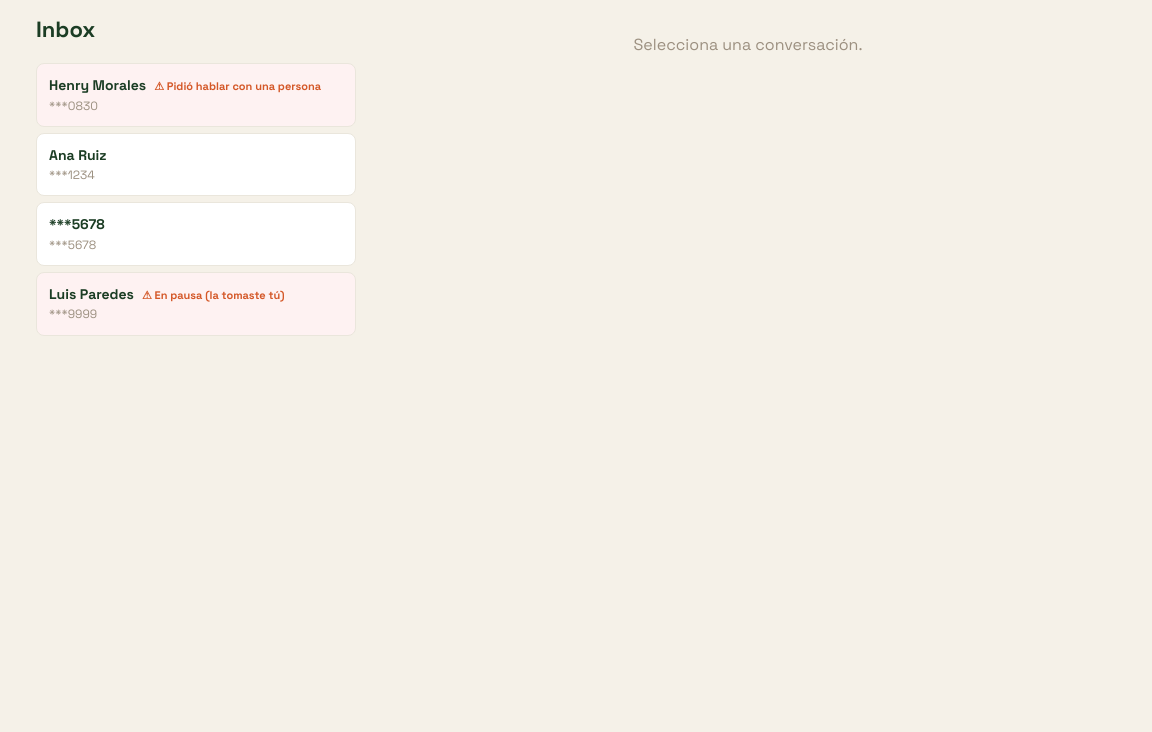
Test: Inbox (T-H4.1) › thread items with media_url render the actual media instead of the text placeholder
The image size is (1152, 732).
Expected: the number of buttons with test id "conv-row" is 4, top-left (36, 63), bottom-right (356, 127); top-left (36, 133), bottom-right (356, 196); top-left (36, 202), bottom-right (356, 266); top-left (36, 272), bottom-right (356, 336)
Click the text "Henry Morales": [196, 85] box top-left (49, 74), bottom-right (343, 97)
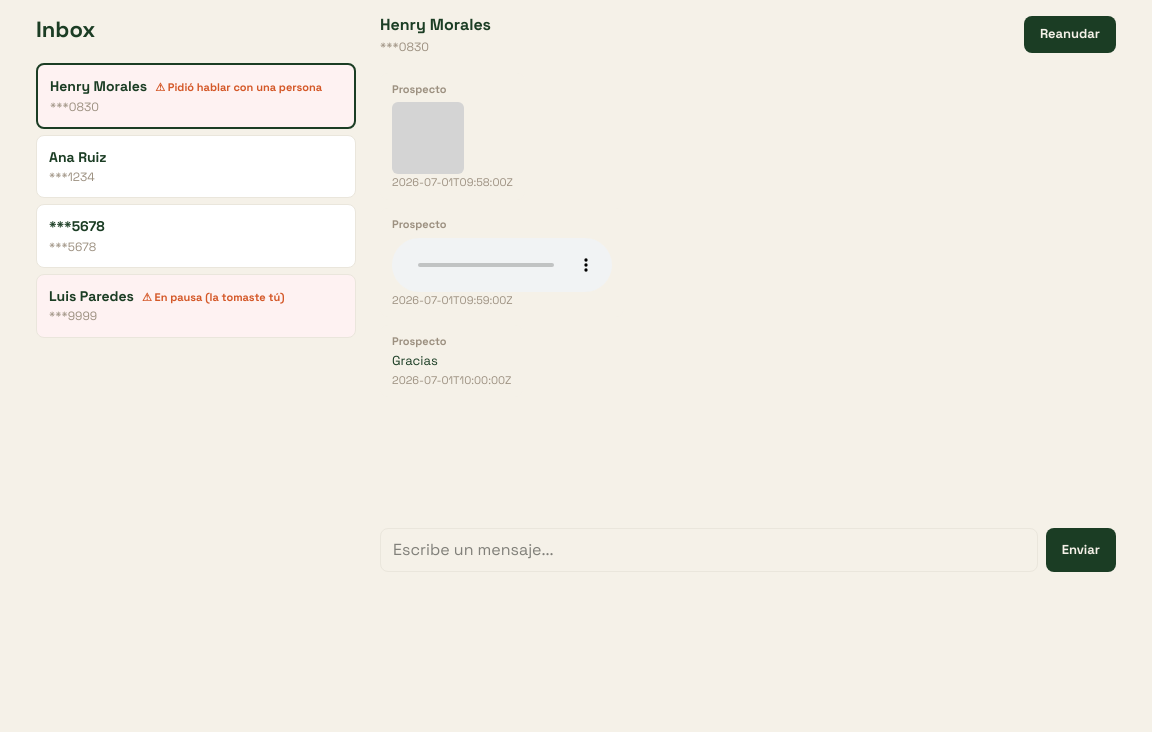
Expected: the number of elements with test id "thread-item" is 3, top-left (380, 73), bottom-right (525, 200); top-left (380, 208), bottom-right (624, 317); top-left (380, 325), bottom-right (523, 397)
Expected: the text "Gracias" is shown, top-left (392, 352), bottom-right (438, 369)
